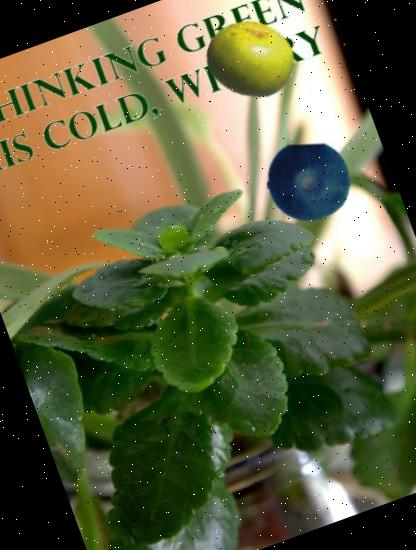Huckleberry: (255, 128, 363, 236)
Pomelo: (194, 2, 308, 116)
